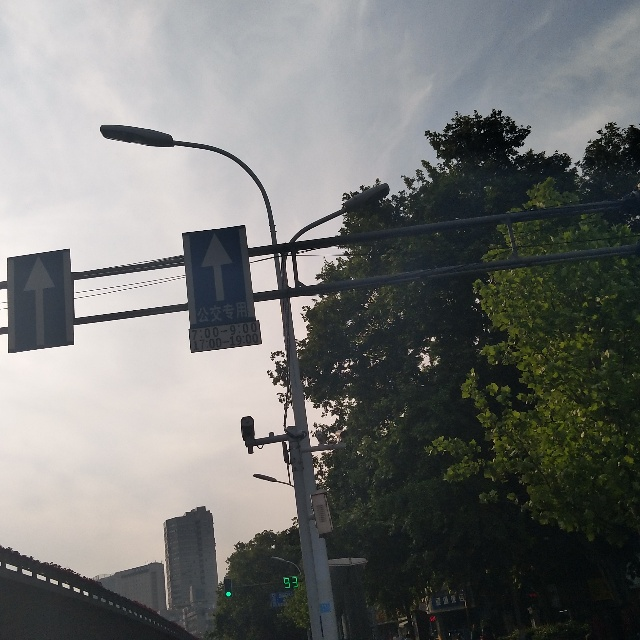straight: (6, 254, 67, 353), (195, 233, 238, 302)
